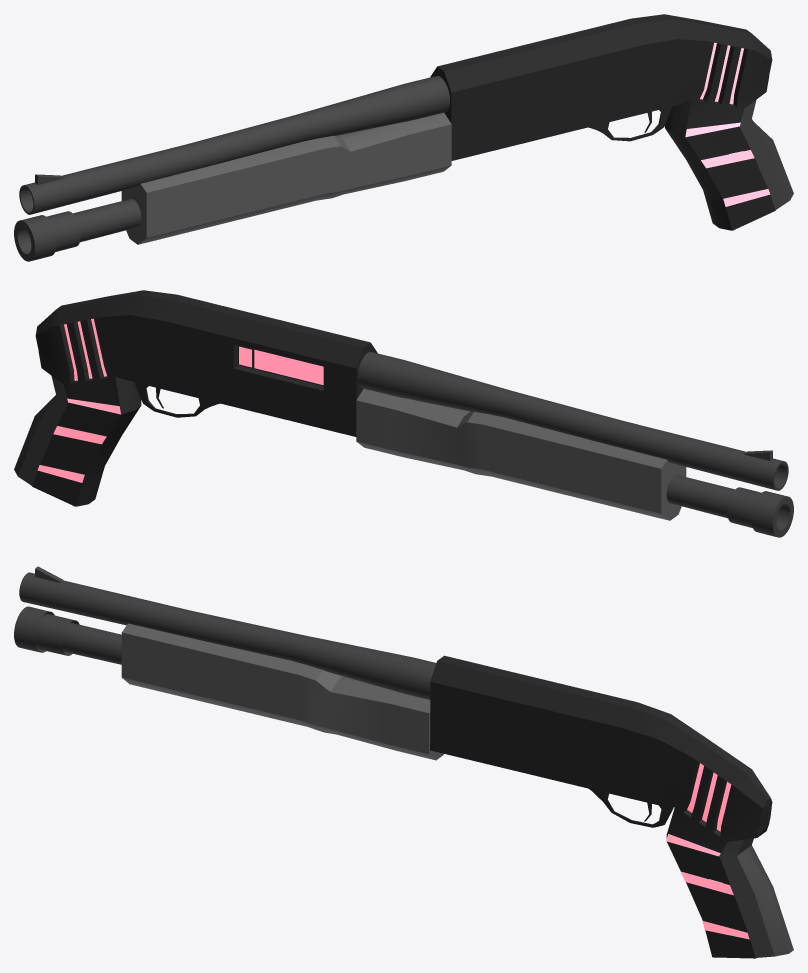
File: Model_ShotGun.fbx
The picture shows the model from 3 angles, top to bottom: view 1: azimuth 30°, elevation 25°; view 2: azimuth 150°, elevation 25°; view 3: azimuth 330°, elevation 25°; orthographic projection.
Parts seen in each view (by area): view 1: Shotty; view 2: Shotty; view 3: Shotty.
Part boxes in pixels (x1,y1,x2,y2): Shotty: (14, 14, 793, 261); Shotty: (14, 290, 793, 537); Shotty: (14, 566, 793, 958).
Size of the model in its own units: 121 by 33.94 by 6.82.
